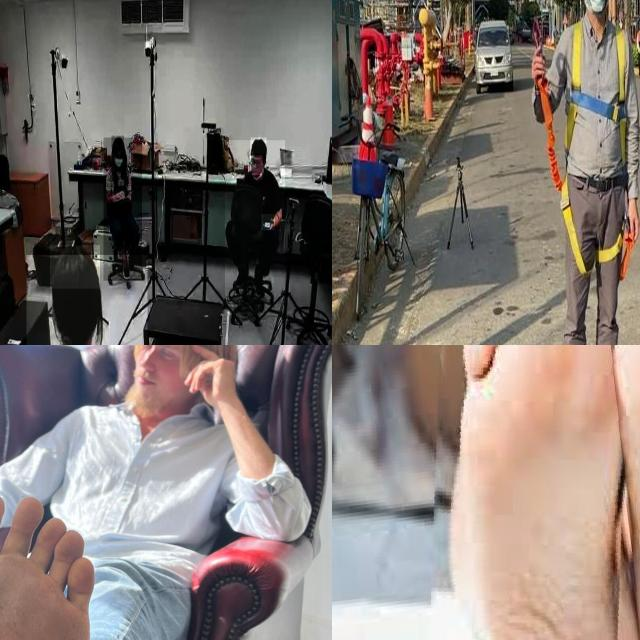Barefoots: (447, 345, 640, 640)
Harness: (537, 78, 635, 280), (568, 21, 629, 174)
face_nomask: (250, 155, 264, 176)
hand_glove: (112, 152, 126, 174)
hand_noglove: (261, 214, 275, 231), (113, 189, 125, 201)
head_nohelmet: (50, 245, 100, 290), (251, 138, 267, 154), (112, 136, 125, 150)
person: (26, 255, 147, 345), (225, 140, 285, 316), (104, 137, 142, 280)
